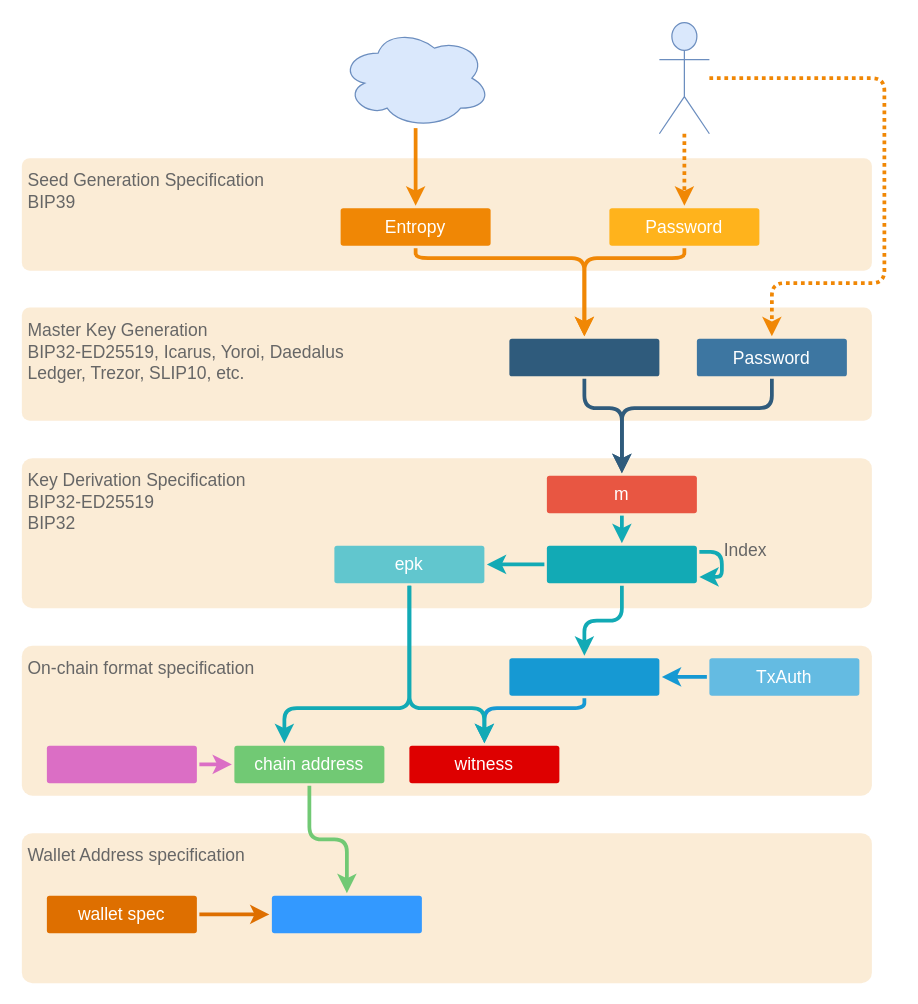
The diagram is 918 pixels wide and 1004 high, and some of its shapes have lost their labels. Here are the shapes that lost their labels. From the top down, the centre of each, then its label:
the point at 415,77: RNG
the point at 683,77: User
the point at 584,357: Seed
the point at 621,563: esk
the point at 584,676: signature
the point at 121,763: address spec
the point at 346,913: wallet address
